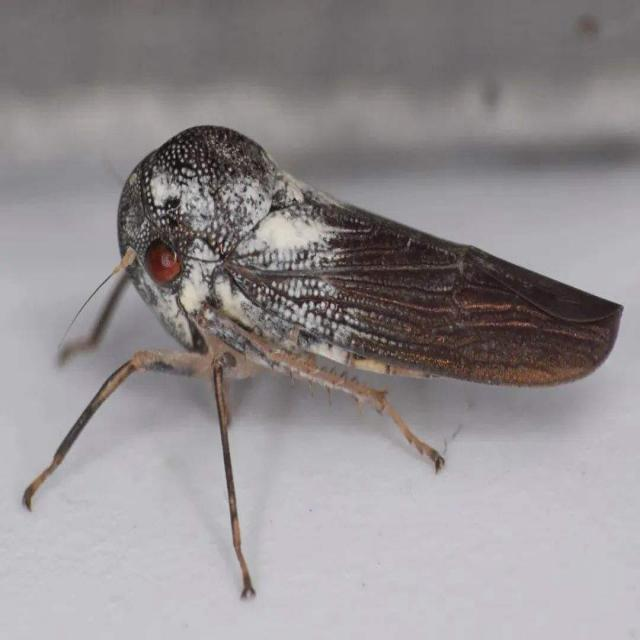Yechan: (88, 108, 624, 493)
